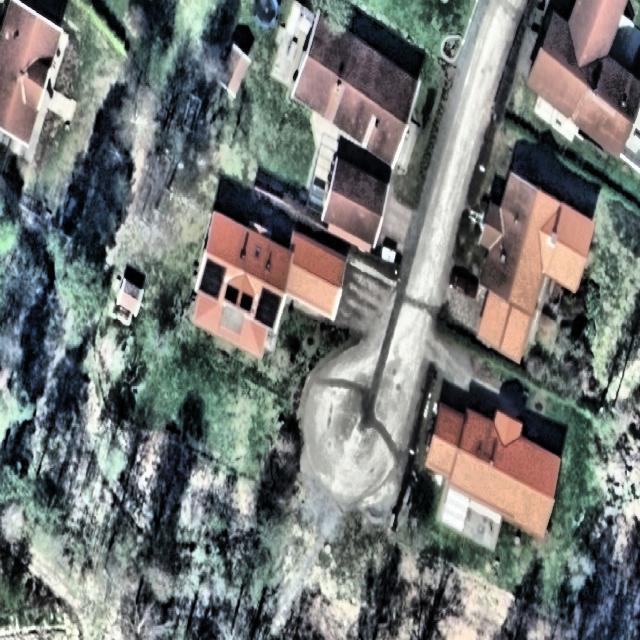roof_pv: (252, 286, 284, 326), (198, 256, 226, 301)
